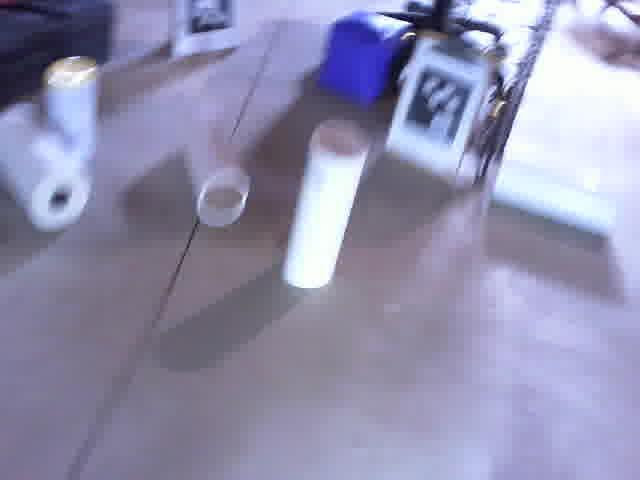coral: (280, 110, 373, 289), (171, 101, 253, 230), (492, 159, 622, 240)
